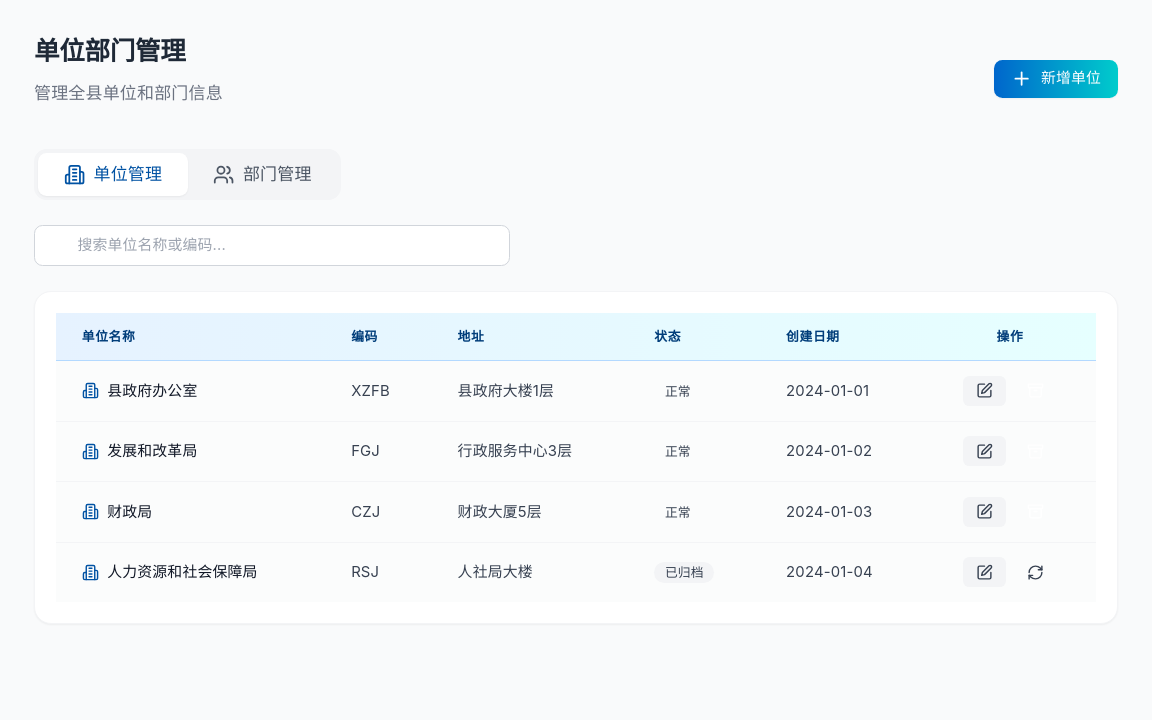
Test: OrganizationManagement Page › expands department to show children
Click the button "部门管理": (262, 174) [188,153,337,196]
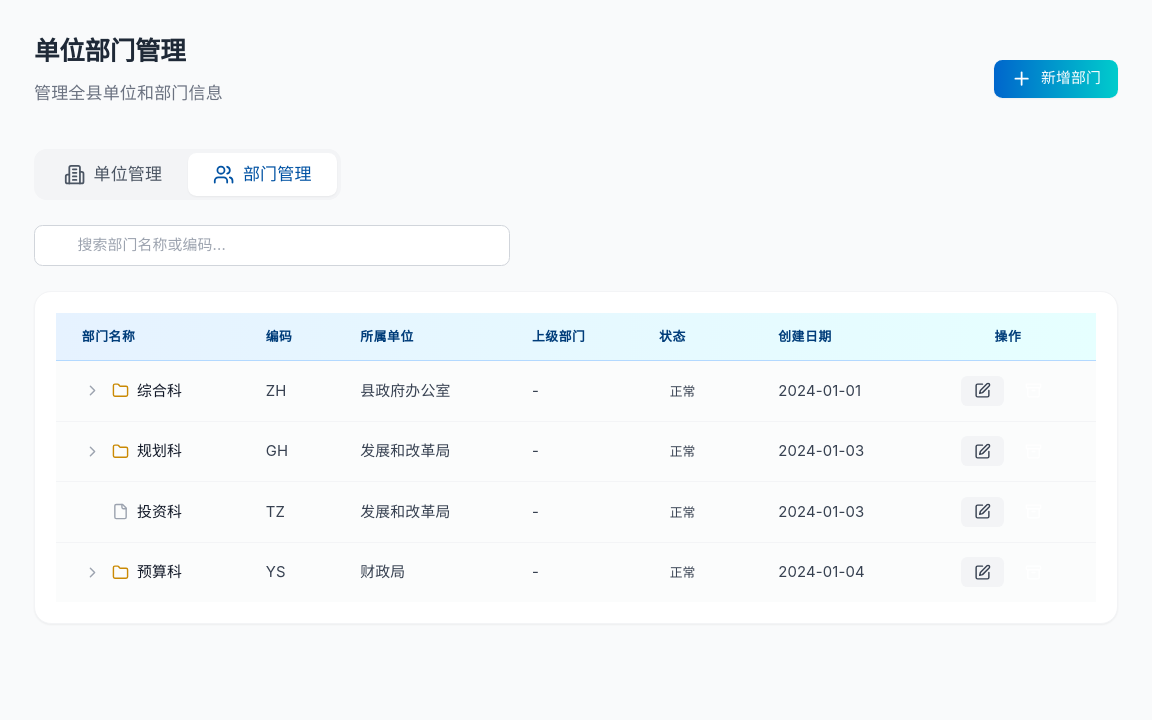
Expected: the text "文秘科" is not shown
Click the button without text next to "综合科": (92, 391) [82,380,103,401]
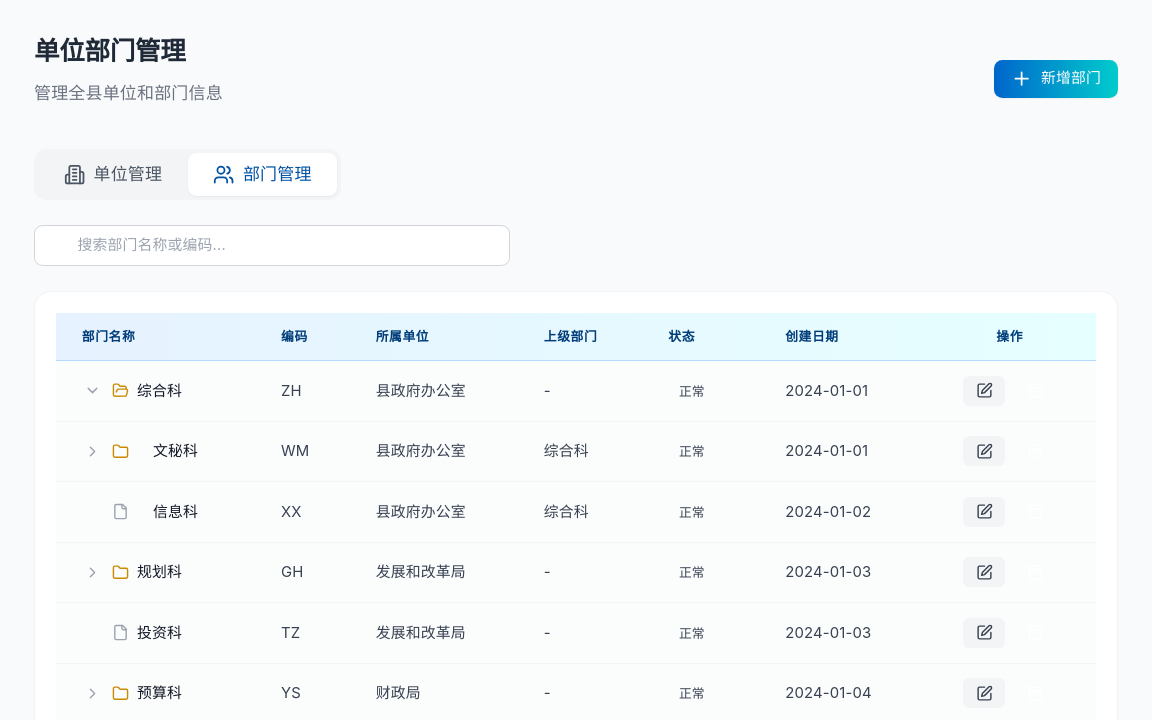
Now the text "文秘科" is shown, box [153,442,198,460]
